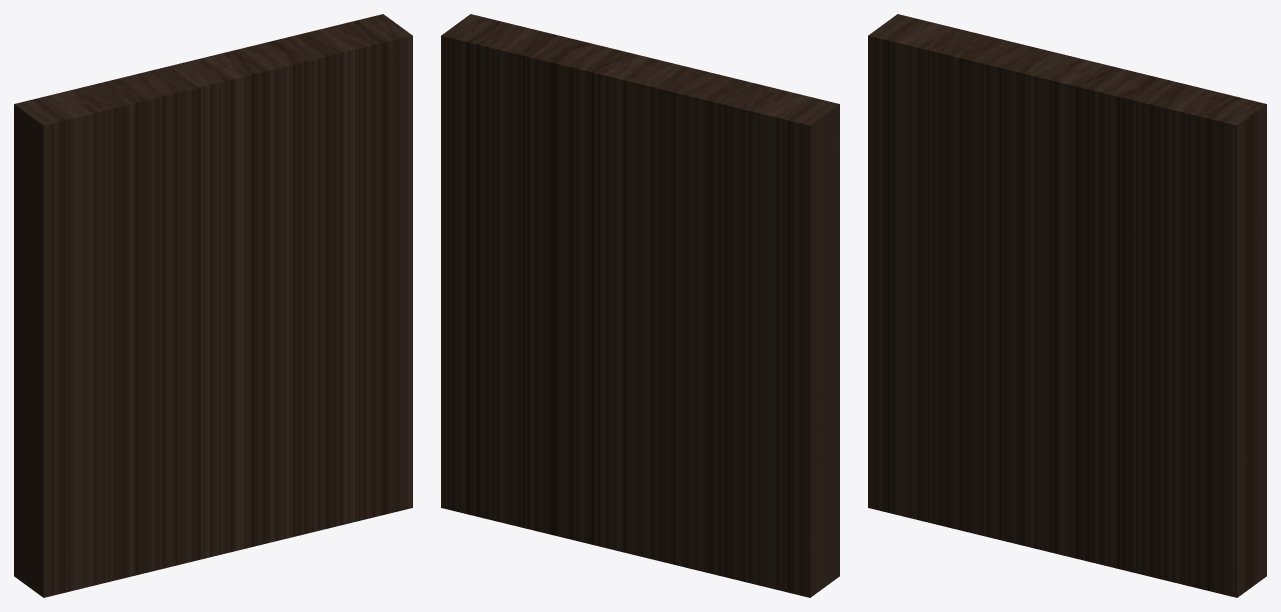
The model's file is wedge_90.glb.
3 renders of one model, left to right at view 1: azimuth 30°, elevation 25°; view 2: azimuth 150°, elevation 25°; view 3: azimuth 330°, elevation 25°, orthographic.
Visible parts, largest first — view 1: wedge_90; view 2: wedge_90; view 3: wedge_90.
Part boxes in pixels (bbox=[...]): wedge_90: bbox=[14, 14, 412, 597]; wedge_90: bbox=[441, 14, 839, 597]; wedge_90: bbox=[868, 14, 1266, 597].
Size of the model in its own units: 0.36 by 0.44 by 0.05.
1 material, 1 textured.
